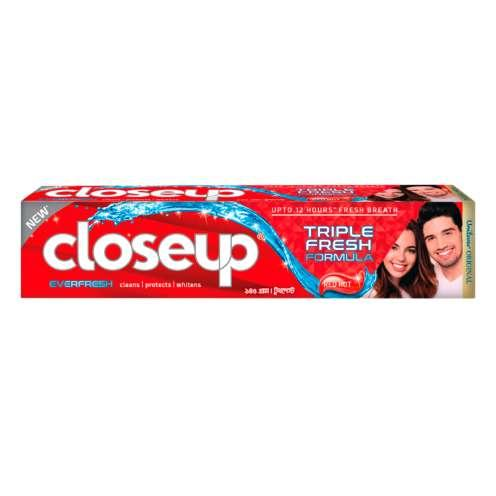CloseUp: (21, 182, 477, 301)
